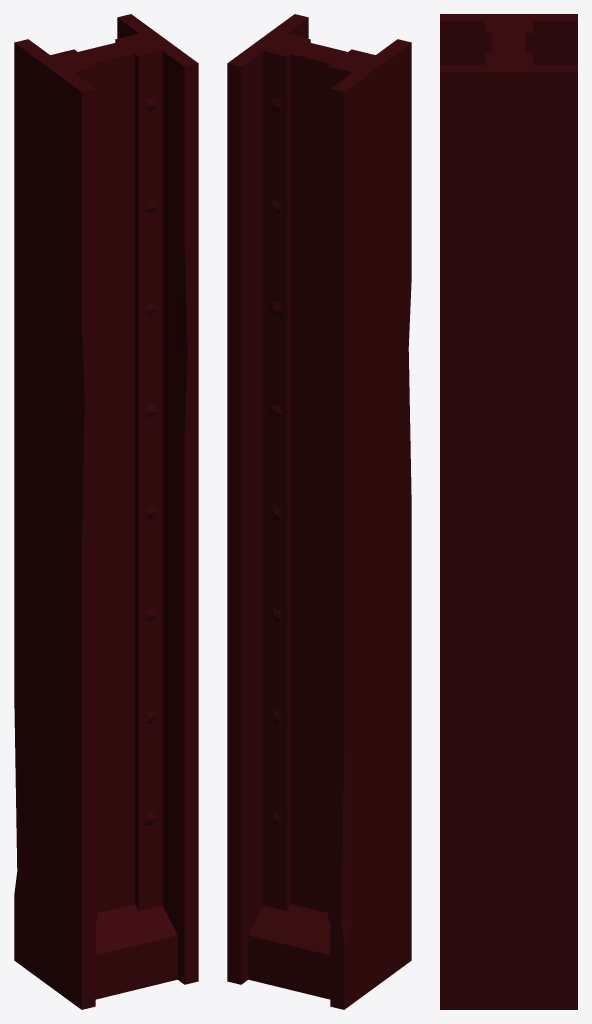
Rendered from SW_ENV_PillarGirderPlatform_3m_Drk.fbx.
3 renders of one model, left to right at view 1: azimuth 30°, elevation 25°; view 2: azimuth 150°, elevation 25°; view 3: azimuth 270°, elevation 25°, orthographic. The views are drawn at different scales.
Visible parts, largest first — view 1: SW_ENV_PillarGirderPlatform_3m_Drk; view 2: SW_ENV_PillarGirderPlatform_3m_Drk; view 3: SW_ENV_PillarGirderPlatform_3m_Drk.
Part boxes in pixels (x1=…): SW_ENV_PillarGirderPlatform_3m_Drk: x1=14, y1=14, x2=198, y2=1009; SW_ENV_PillarGirderPlatform_3m_Drk: x1=227, y1=14, x2=411, y2=1009; SW_ENV_PillarGirderPlatform_3m_Drk: x1=440, y1=14, x2=577, y2=1009.
Bounding box in the file's own units: 40 × 300 × 40.
